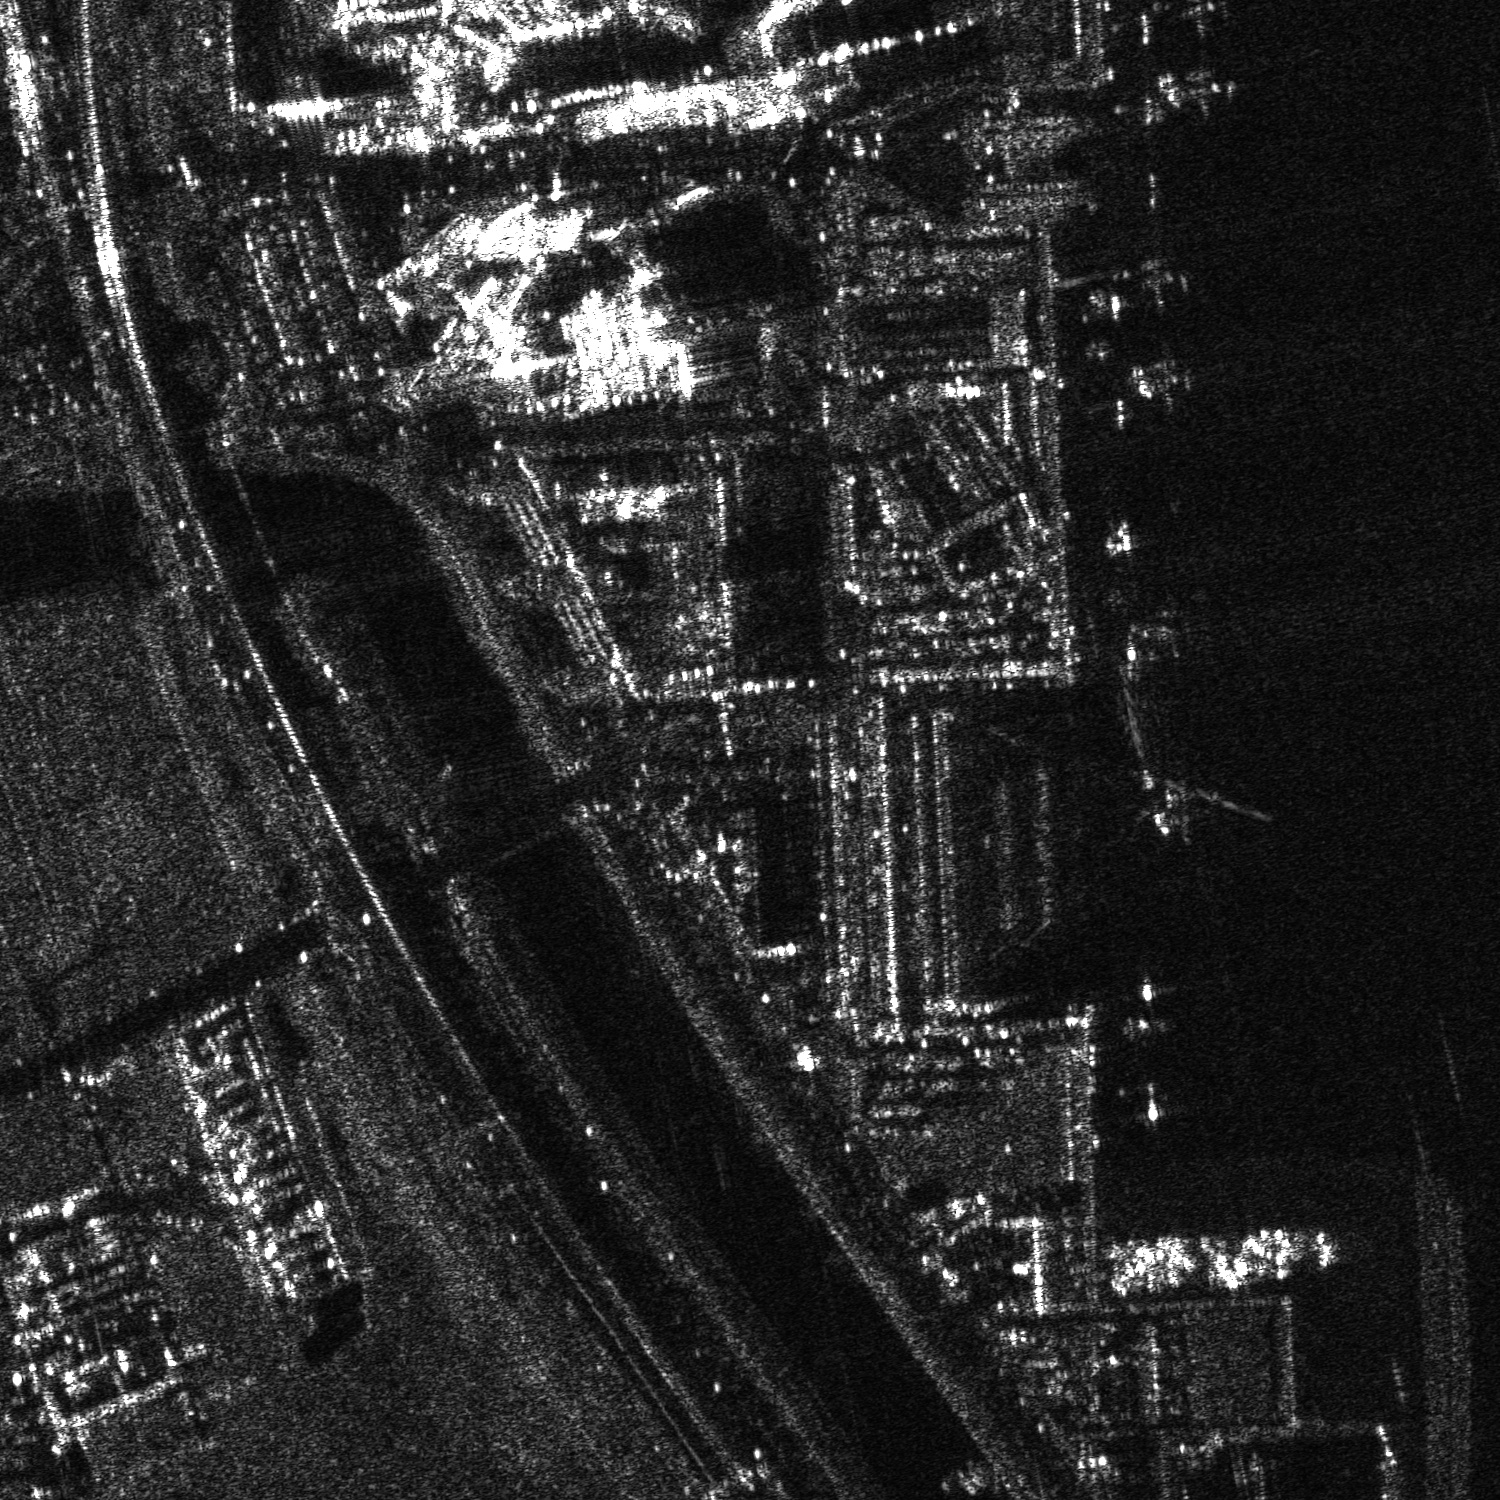A220: (1152, 58, 1249, 126), (1158, 1, 1238, 44)
